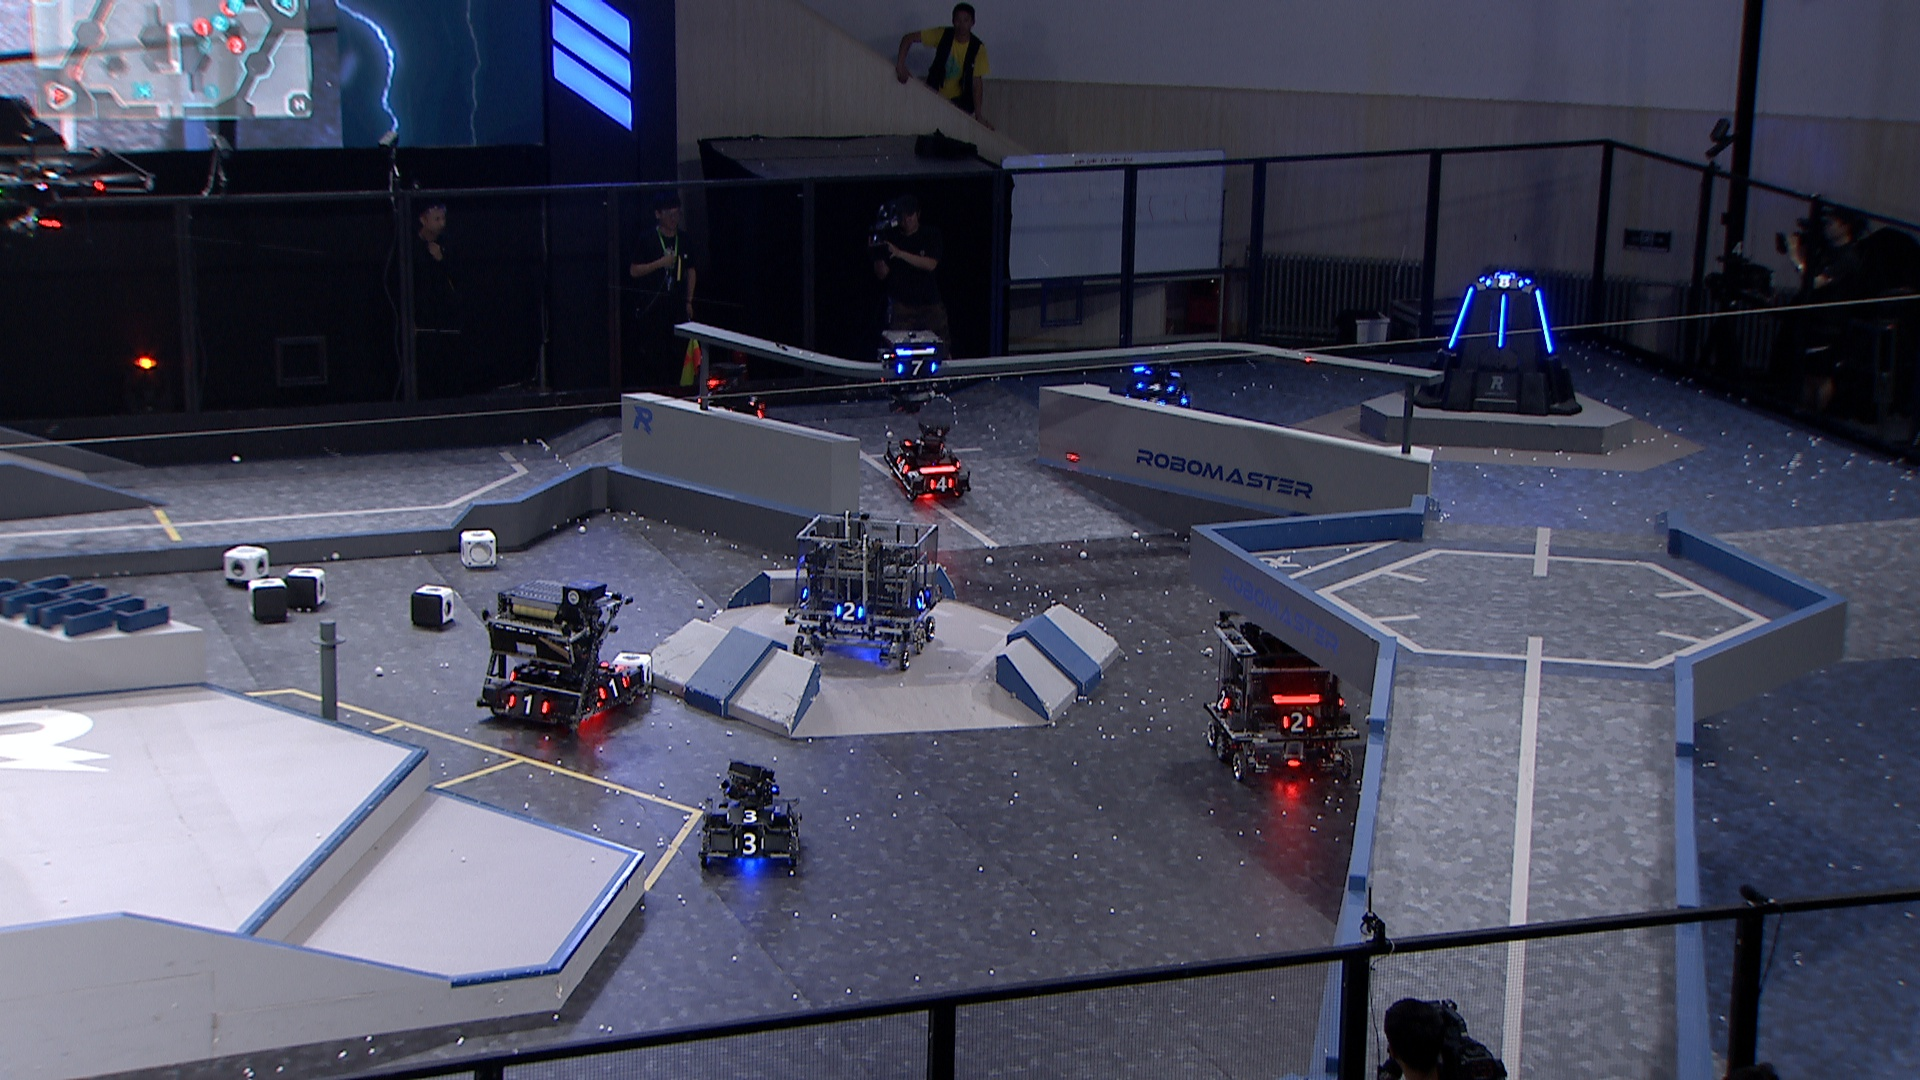armor: (1443, 284, 1476, 349), (1532, 285, 1556, 356), (501, 692, 553, 716), (1494, 291, 1513, 349), (893, 357, 942, 378), (596, 674, 632, 702), (1482, 272, 1528, 291), (723, 808, 775, 825), (733, 829, 765, 855), (1280, 709, 1313, 733), (835, 599, 865, 622), (1135, 377, 1174, 396), (927, 472, 956, 493), (911, 588, 931, 612), (1215, 687, 1230, 713), (893, 456, 910, 477)
base: (1411, 266, 1584, 419)
car: (1201, 605, 1366, 787), (477, 574, 645, 735), (779, 510, 948, 670), (695, 757, 804, 874), (880, 413, 972, 501), (684, 361, 778, 436), (1109, 351, 1196, 429)
watcher: (880, 327, 945, 413)
